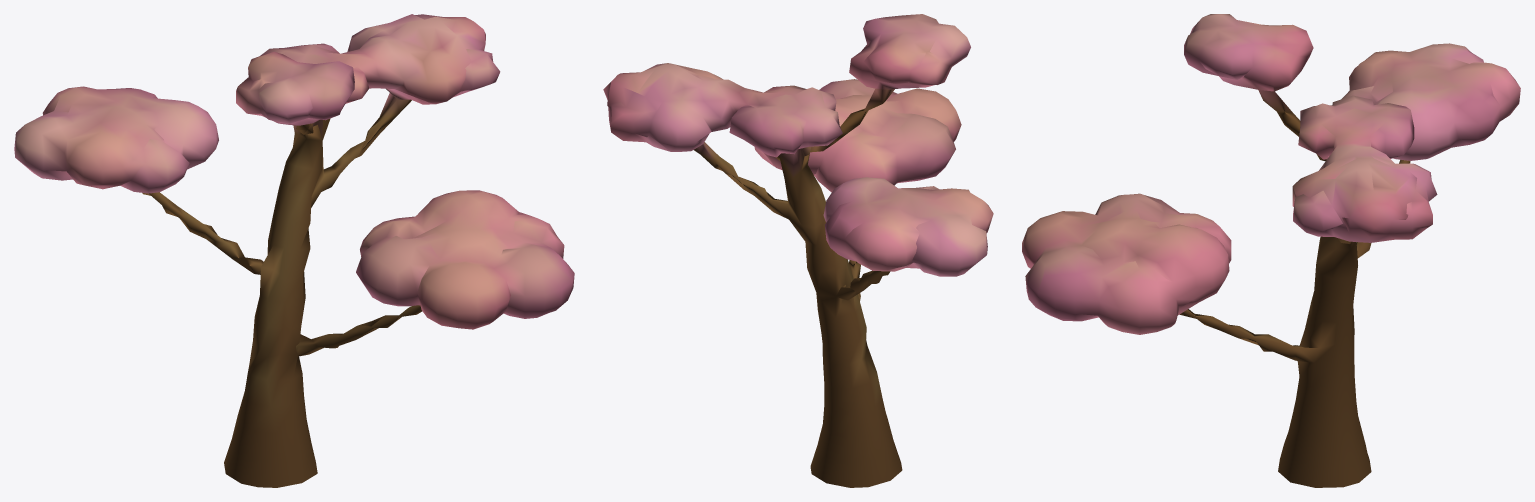
File: cloud-tree-102-lod1.obj
3 views of the same model, side by side, from view 1: azimuth 30°, elevation 25°; view 2: azimuth 150°, elevation 25°; view 3: azimuth 270°, elevation 25° (orthographic). The views are drawn at different scales.
Parts seen in each view (by area): view 1: simplified; view 2: simplified; view 3: simplified.
Part boxes in pixels (x1,y1,x2,y2): simplified: (14, 14, 574, 487); simplified: (603, 14, 993, 487); simplified: (1022, 14, 1520, 487).
Bounding box in the file's own units: 308 × 297 × 308.
